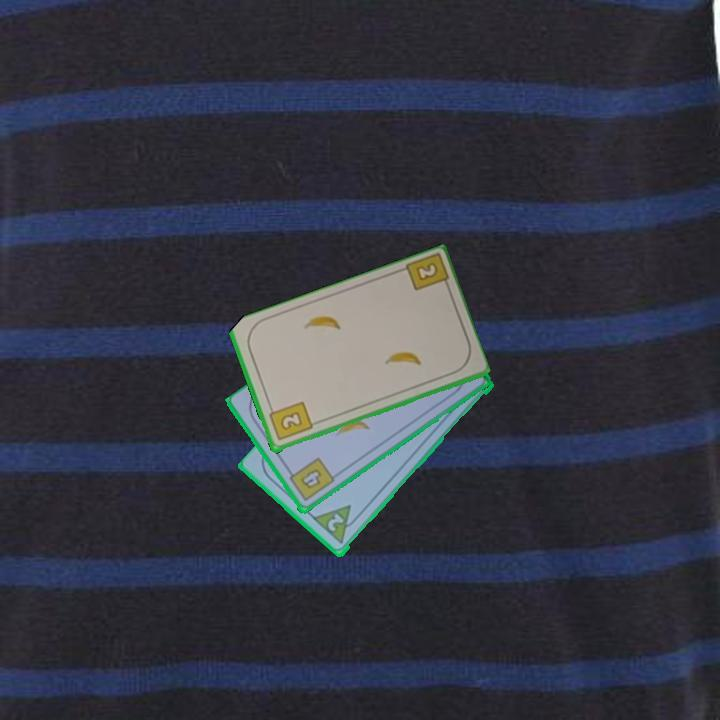2b: (265, 398, 315, 444), (401, 252, 453, 294)
2p: (324, 510, 347, 535)
4b: (284, 454, 337, 505)
